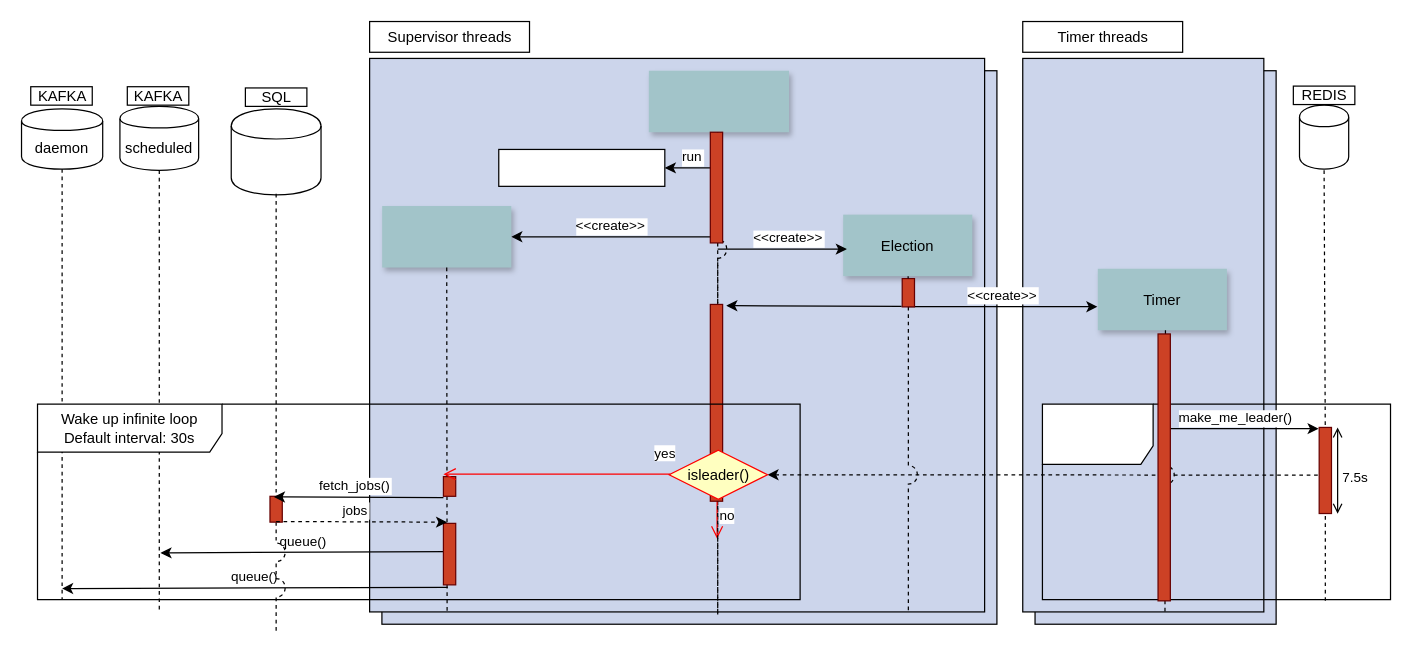
Image size: 1412x656. Some labels were removed from this diagram. The shapes that lost their labels are listed below. From the top down, each one's centre as x and y in pixels, then its label:
At point 719,102: "Supervisor".
At point 275,151: "Kirby.db trough kirby web API".
At point 581,167: ":Arbiter thread :Runner thread".
At point 447,238: "Scheduler".
At point 1216,501: "Infinite loop Default interval : 0.5s".
